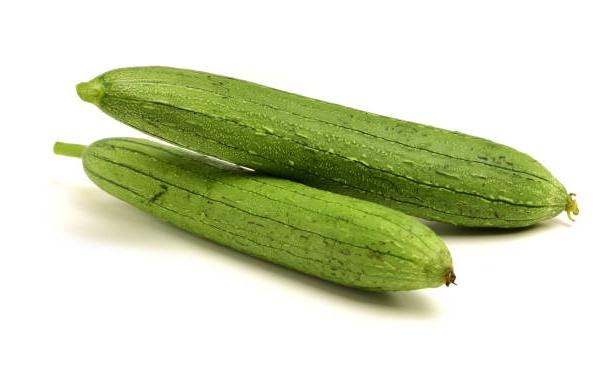ridge gourd: (75, 63, 579, 230), (53, 135, 457, 293)
